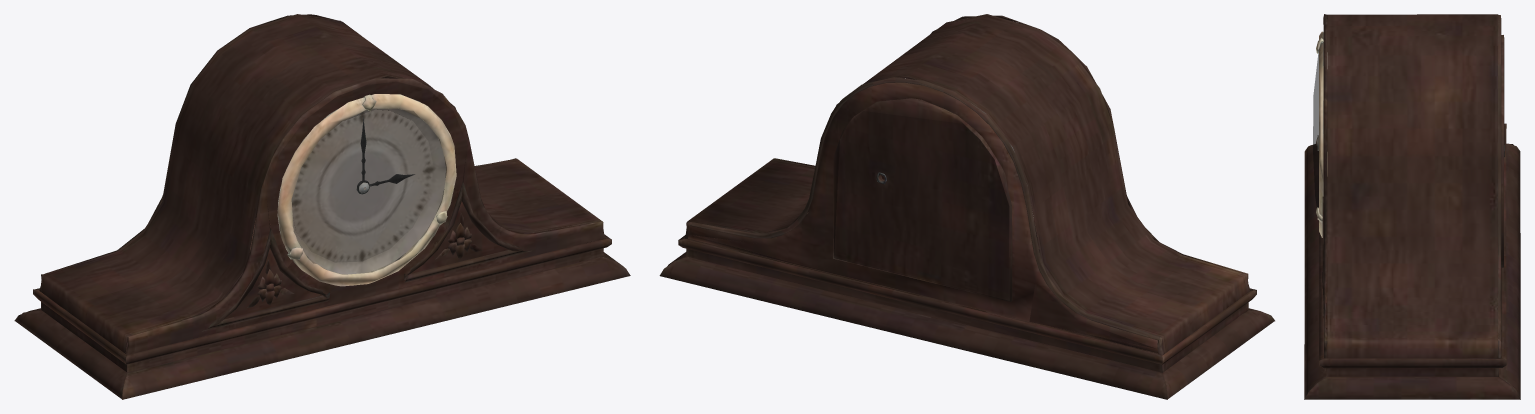
The model's file is ph_mantel_clock_01.glb.
The picture shows the model from 3 angles, left to right: view 1: azimuth 30°, elevation 25°; view 2: azimuth 150°, elevation 25°; view 3: azimuth 270°, elevation 25°; orthographic projection.
Parts seen in each view (by area): view 1: mantel_clock_01; view 2: mantel_clock_01; view 3: mantel_clock_01.
Boxes of the visible parts, x1,y1,x2,y2 form: mantel_clock_01: [14, 14, 630, 399]; mantel_clock_01: [659, 14, 1274, 399]; mantel_clock_01: [1304, 14, 1520, 399].
Bounding box in the file's own units: 0.3422 × 0.1604 × 0.1257.
Materials: 2 (2 with a texture image).
